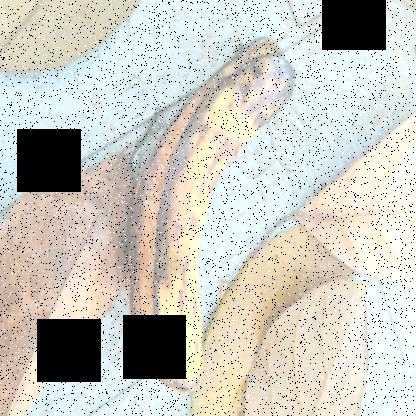rotten: (117, 20, 310, 402)
